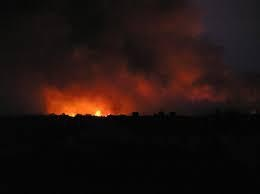fire: (90, 106, 108, 118)
